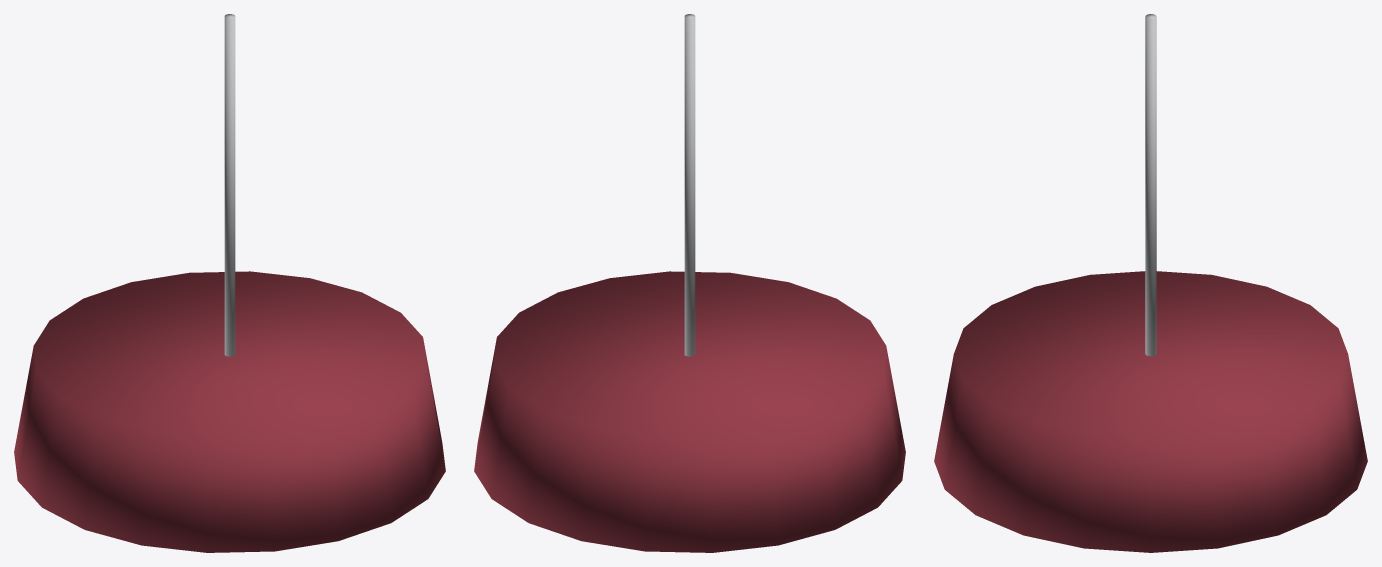
The model's file is pedestal.glb.
3 views of the same model, side by side, from view 1: azimuth 30°, elevation 25°; view 2: azimuth 150°, elevation 25°; view 3: azimuth 270°, elevation 25° (orthographic).
Parts seen in each view (by area): view 1: cyl, cyl.001; view 2: cyl, cyl.001; view 3: cyl, cyl.001.
Boxes of the visible parts, box(x1,y1,x2,y2) form: cyl: box(14, 271, 445, 552); cyl.001: box(224, 14, 235, 356); cyl: box(474, 271, 905, 552); cyl.001: box(684, 14, 695, 356); cyl: box(934, 271, 1367, 552); cyl.001: box(1145, 14, 1156, 356).
Size of the model in its own units: 1.1 by 1.24 by 1.1.
